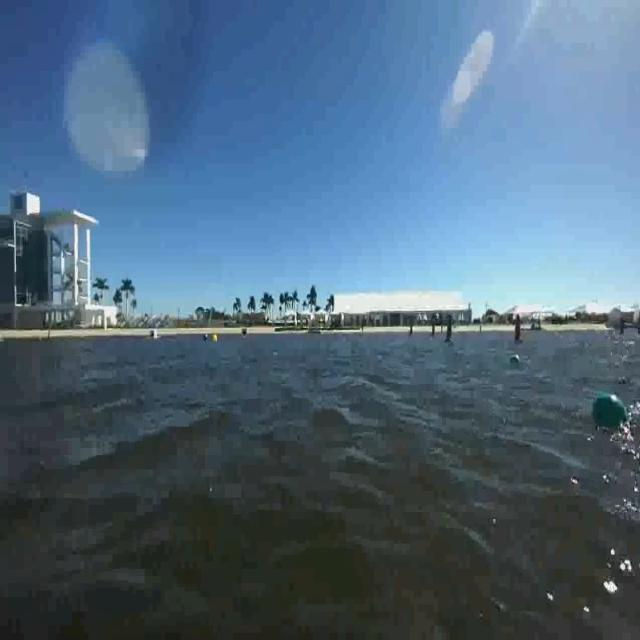green-buoy: (592, 390, 627, 430)
